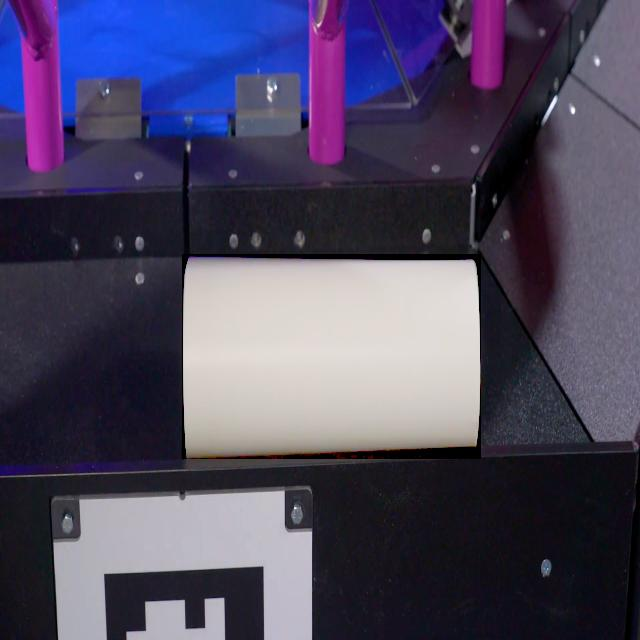Coral: (182, 254, 481, 459)
